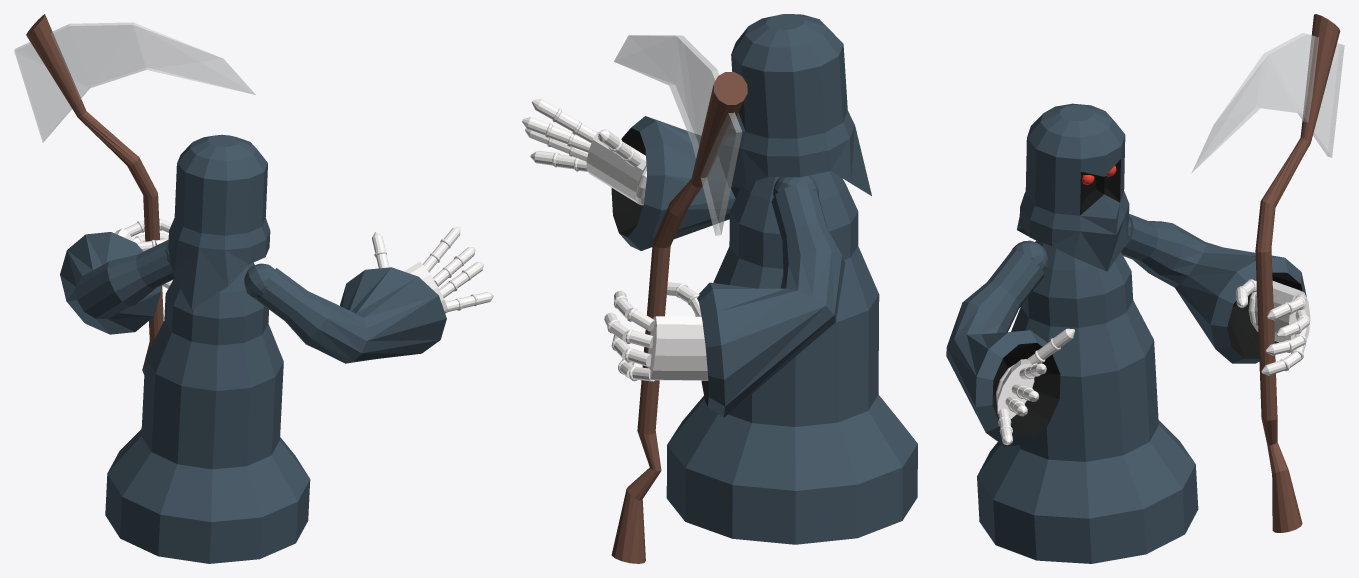
File: grim_reaper.glb
3 renders of one model, left to right at view 1: azimuth 30°, elevation 25°; view 2: azimuth 150°, elevation 25°; view 3: azimuth 270°, elevation 25°, orthographic. The views are drawn at different scales.
Visible parts, largest first — view 1: group892375890; view 2: group892375890; view 3: group892375890.
Part boxes in pixels (<box>): group892375890: <box>14,14,493,563</box>; group892375890: <box>522,14,917,563</box>; group892375890: <box>946,14,1344,563</box>.
Bounding box in the file's own units: 0.8913 × 1.12 × 0.846.
2 materials, 2 textured.
